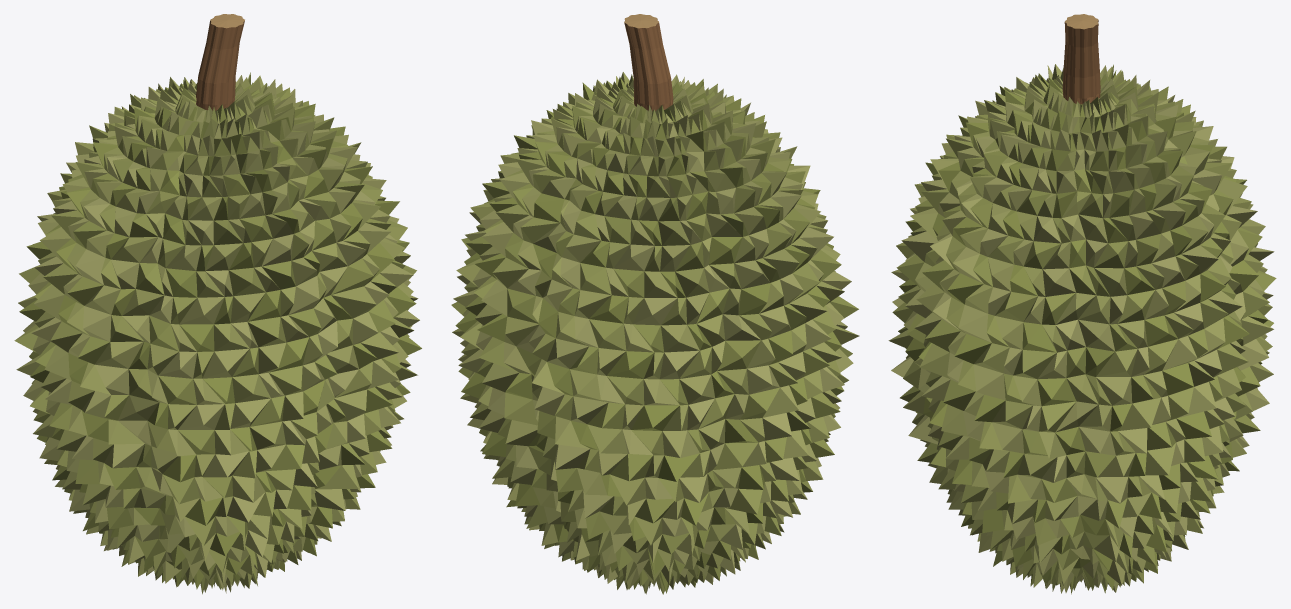
The picture shows the model from 3 angles, left to right: view 1: azimuth 30°, elevation 25°; view 2: azimuth 150°, elevation 25°; view 3: azimuth 270°, elevation 25°; orthographic projection.
Visible parts, largest first — view 1: NEW303_Durian_LOD0; view 2: NEW303_Durian_LOD0; view 3: NEW303_Durian_LOD0.
Part boxes in pixels (x1=…): NEW303_Durian_LOD0: x1=14, y1=14, x2=421, y2=594; NEW303_Durian_LOD0: x1=451, y1=14, x2=859, y2=594; NEW303_Durian_LOD0: x1=888, y1=14, x2=1276, y2=594.
Bounding box in the file's own units: 0.2331 × 0.3469 × 0.217.
